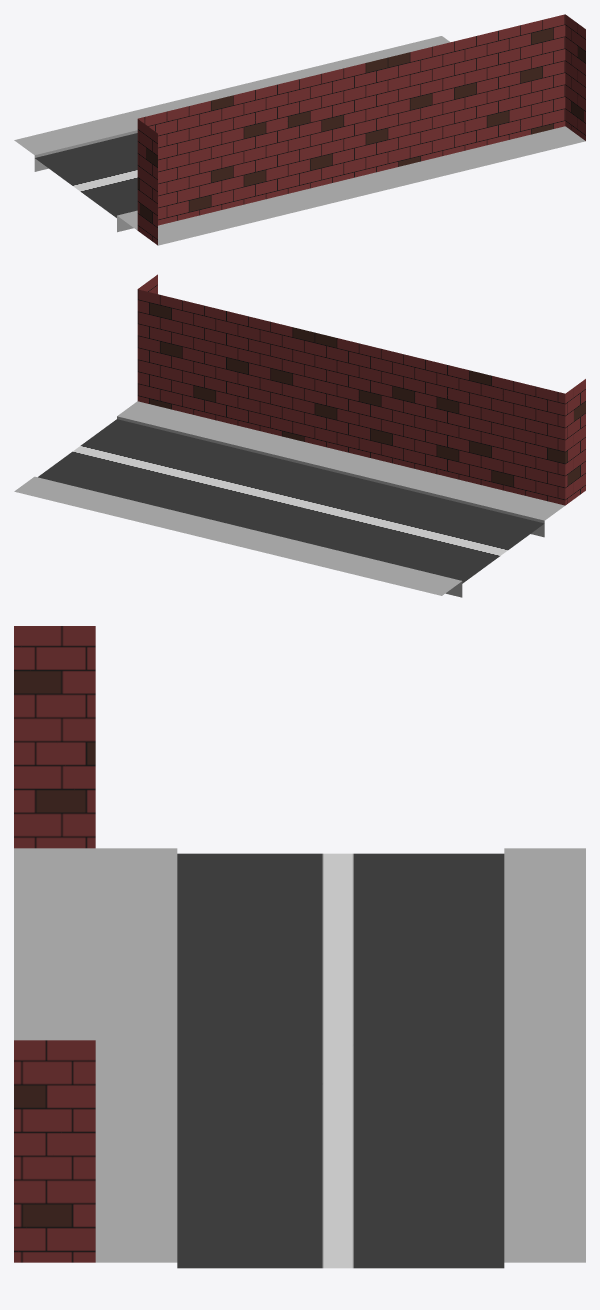
Rendered from brickWall.obj.
3 views of the same model, one above another, from view 1: azimuth 30°, elevation 25°; view 2: azimuth 150°, elevation 25°; view 3: azimuth 270°, elevation 25° (orthographic). The views are drawn at different scales.
Parts seen in each view (by area): view 1: 立方体; view 2: 立方体; view 3: 立方体.
Part boxes in pixels (x1=…): 立方体: x1=14, y1=14, x2=585, y2=245; 立方体: x1=14, y1=274, x2=585, y2=597; 立方体: x1=14, y1=626, x2=585, y2=1268.
Size of the model in its own units: 24 by 6.9 by 14.
2 materials, 2 textured.
